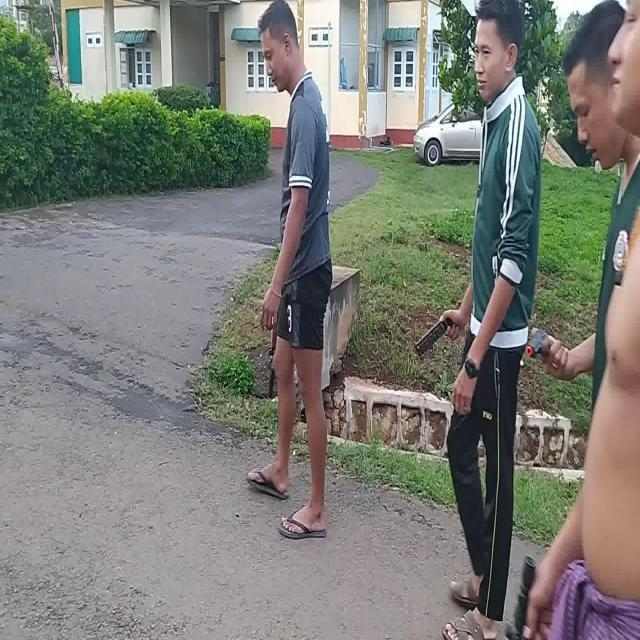gun: (269, 327, 277, 393), (524, 332, 546, 356)
